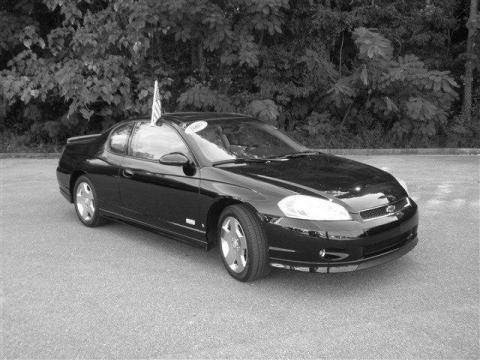car: (53, 115, 431, 293)
